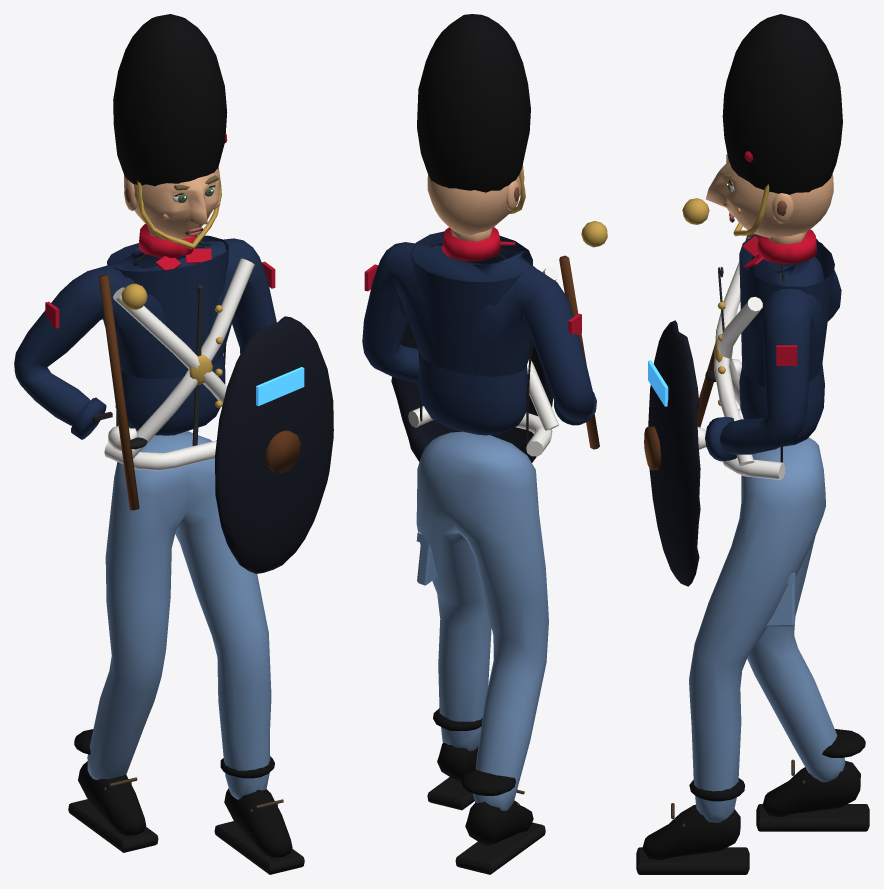
File: enhed_kbh.glb
3 views of the same model, side by side, from view 1: azimuth 30°, elevation 25°; view 2: azimuth 150°, elevation 25°; view 3: azimuth 270°, elevation 25° (orthographic).
Parts seen in each view (by area): view 1: krop_net; view 2: krop_net; view 3: krop_net.
Boxes of the visible parts, <box> form: krop_net: <box>14,14,333,874</box>; krop_net: <box>362,14,607,874</box>; krop_net: <box>636,14,869,874</box>.
Bounding box in the file's own units: 0.8323 × 2.5 × 0.6403.
